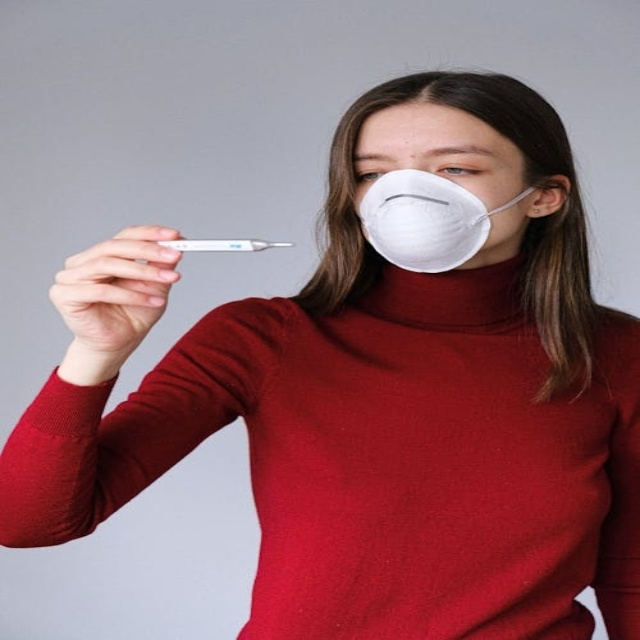Mascara: (356, 169, 526, 273)
Sin_gafas: (353, 146, 507, 182)
Sin_guantes: (48, 225, 186, 357)
